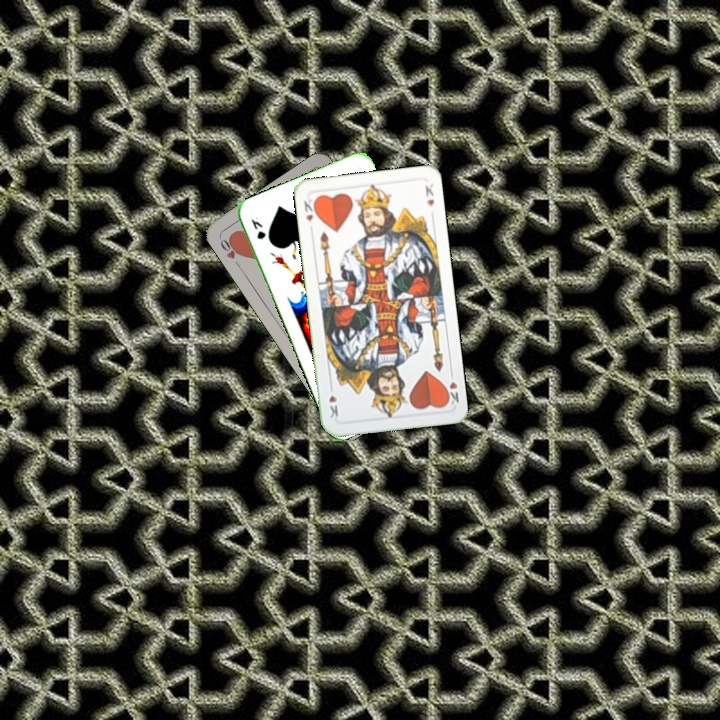GK: (247, 213, 269, 242)
HK: (441, 367, 462, 408), (300, 194, 320, 224)
HO: (215, 234, 244, 270)
